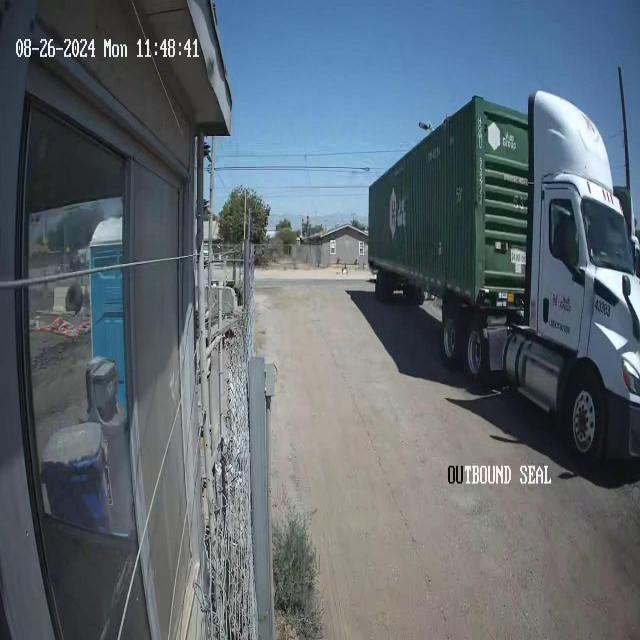CONTAINER: (367, 79, 530, 315)
